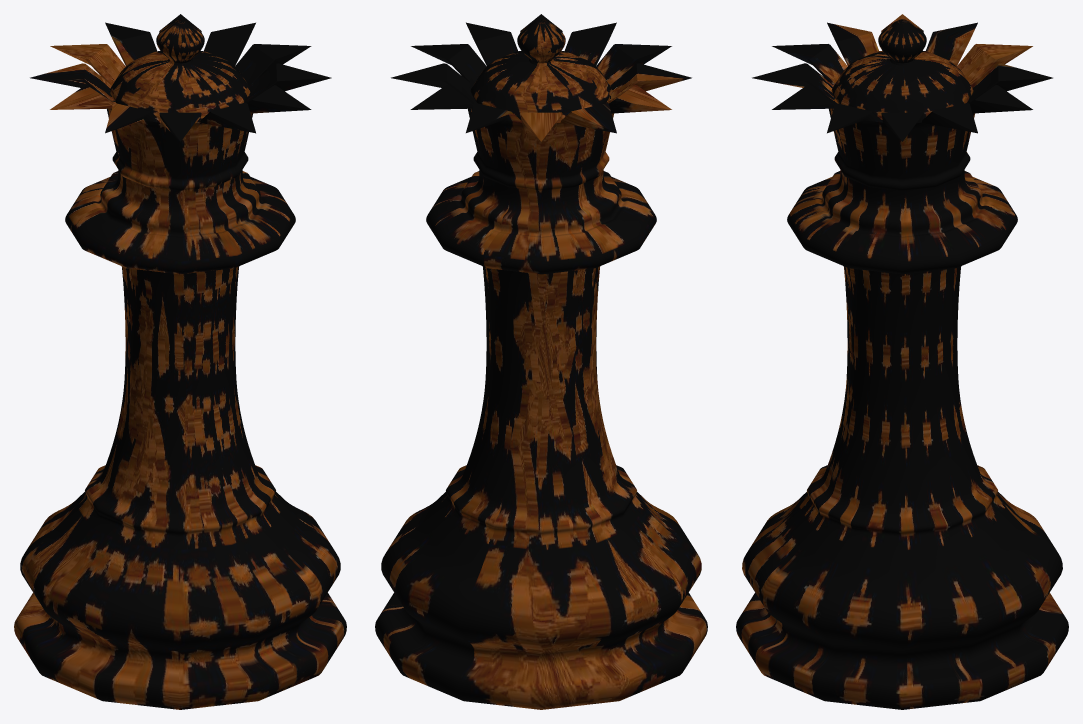
The model's file is queen_dark.obj.
3 views of the same model, side by side, from view 1: azimuth 30°, elevation 25°; view 2: azimuth 150°, elevation 25°; view 3: azimuth 270°, elevation 25° (orthographic).
Visible parts, largest first — view 1: mesh01; view 2: mesh01; view 3: mesh01.
Boxes of the visible parts, x1,y1,x2,y2 form: mesh01: (14,14,346,709); mesh01: (375,14,707,709); mesh01: (736,14,1068,709).
Bounding box in the file's own units: 14.93 × 30.95 × 14.93.
Materials: 1 (1 with a texture image).
